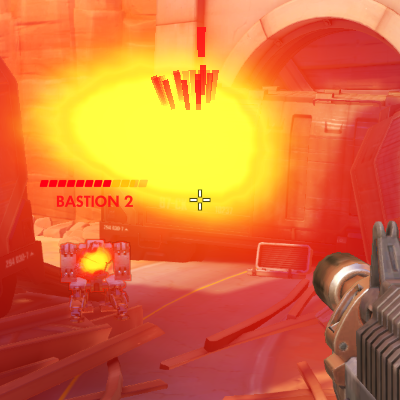hpbar: (39, 179, 149, 188)
